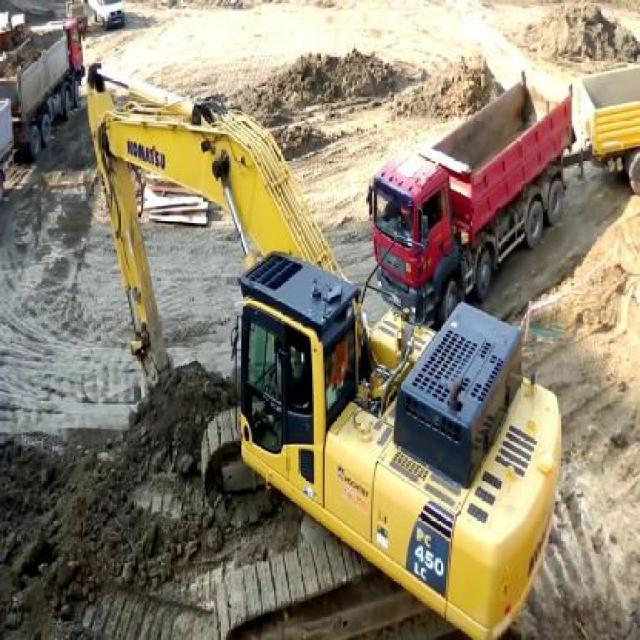Dump Truck: (365, 63, 578, 331), (1, 20, 85, 166), (577, 57, 640, 195)
Excavator: (85, 58, 564, 640)
